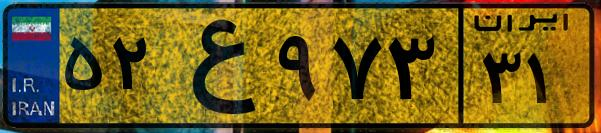1: (525, 38, 570, 115)
2: (110, 28, 158, 98)
3: (385, 28, 445, 110), (475, 38, 525, 113)
5: (57, 26, 110, 100)
7: (330, 28, 385, 110)
9: (270, 28, 330, 110)
ع: (158, 12, 270, 120)
